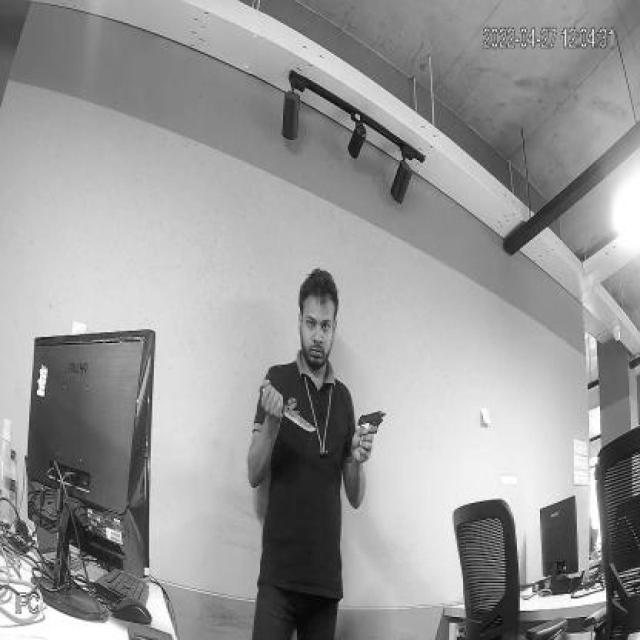weapon: (357, 409, 391, 446)
